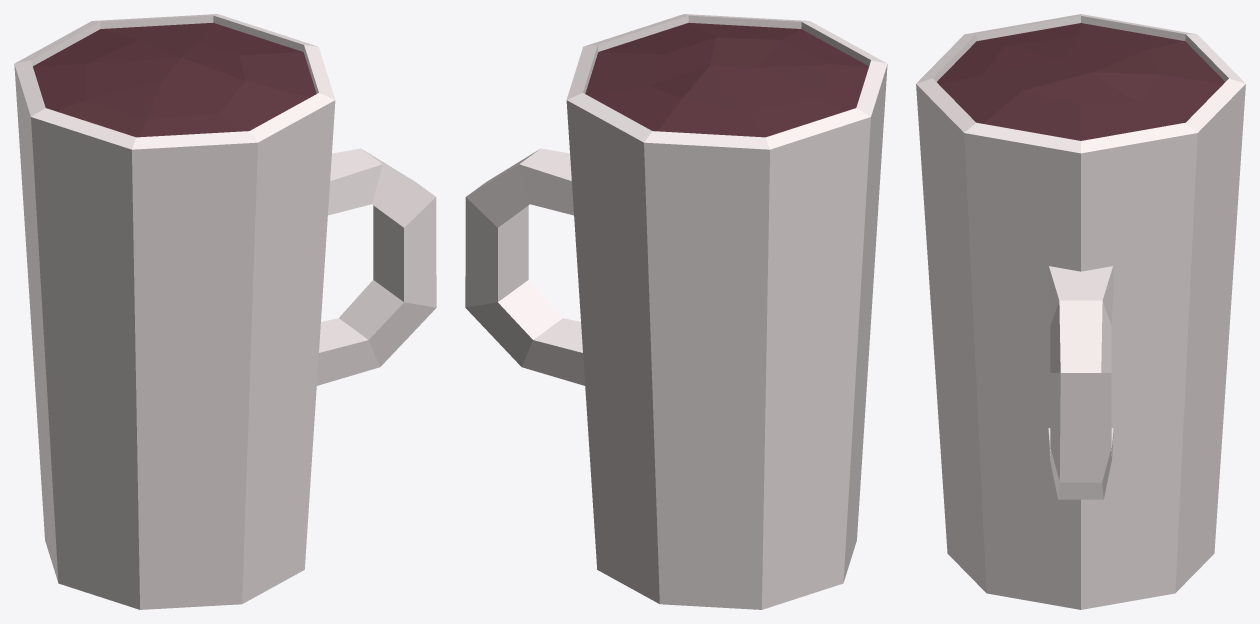
File: glass-latte-coffee.fbx
3 views of the same model, side by side, from view 1: azimuth 30°, elevation 25°; view 2: azimuth 150°, elevation 25°; view 3: azimuth 270°, elevation 25° (orthographic).
Parts seen in each view (by area): view 1: glass-latte-coffee; view 2: glass-latte-coffee; view 3: glass-latte-coffee.
Part boxes in pixels (x1,y1,x2,y2): glass-latte-coffee: (14,14,436,609); glass-latte-coffee: (465,14,887,609); glass-latte-coffee: (916,14,1245,609).
Size of the model in its own units: 0.1123 by 0.1332 by 0.0818.
